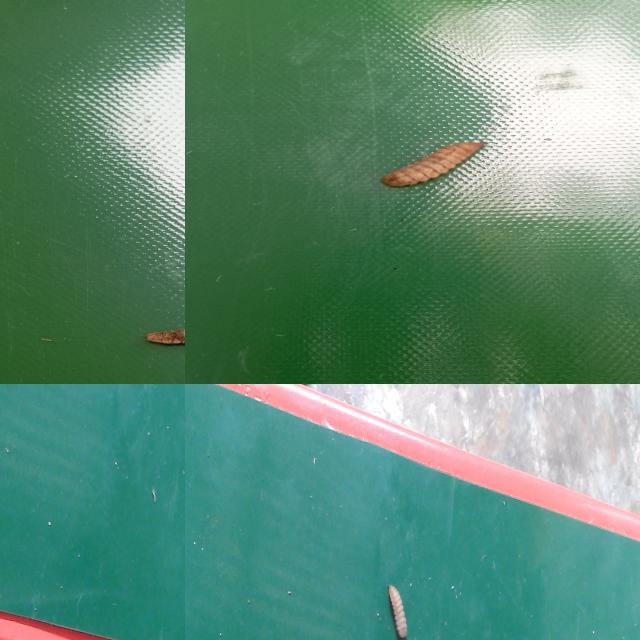Maggot: (379, 140, 483, 190), (386, 587, 412, 640), (144, 328, 185, 348)
